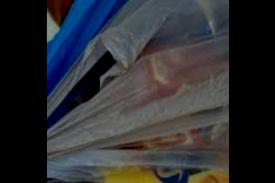Plastic: (46, 0, 229, 182), (46, 0, 207, 130)
